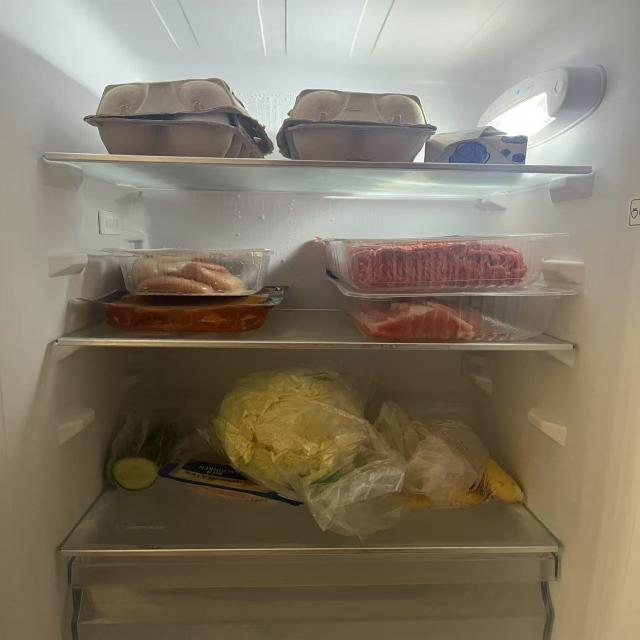Chicken Chest: (115, 248, 276, 297)
Eggs: (85, 71, 432, 168)
Milk: (428, 121, 532, 176)
Pork: (327, 235, 548, 290), (350, 292, 558, 338), (84, 296, 281, 336)
cabbage: (219, 366, 370, 483)
cucumber: (108, 425, 169, 491)
